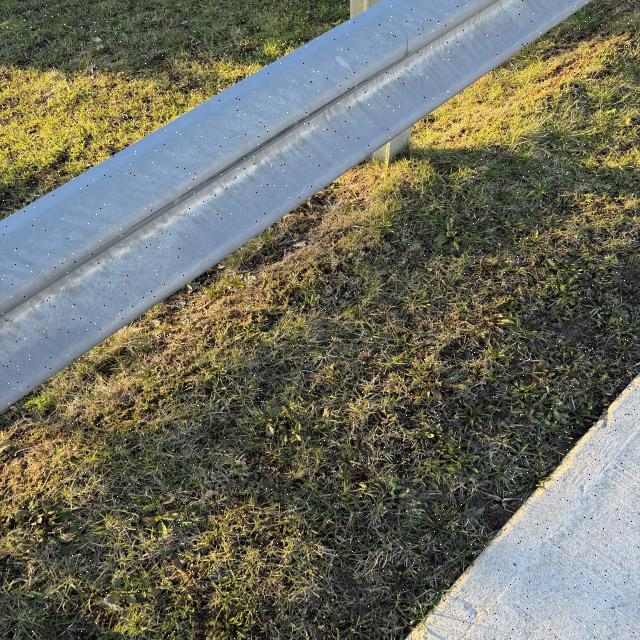Guard rail: (24, 16, 586, 384)
